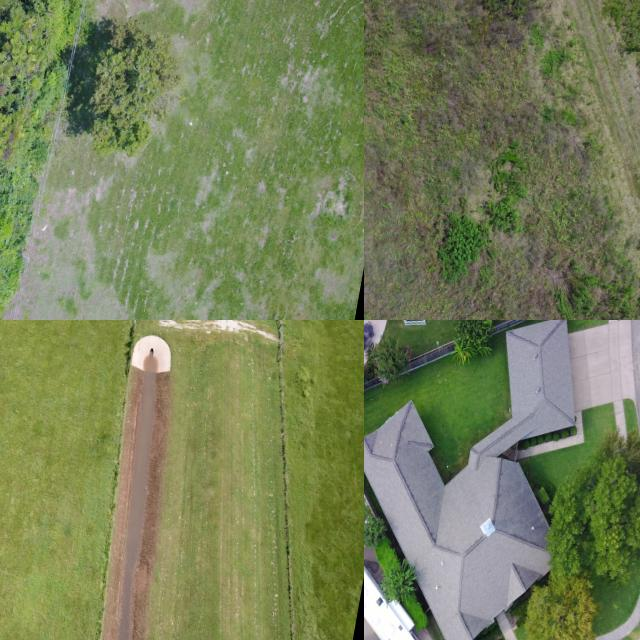fire: (116, 370, 157, 640)
